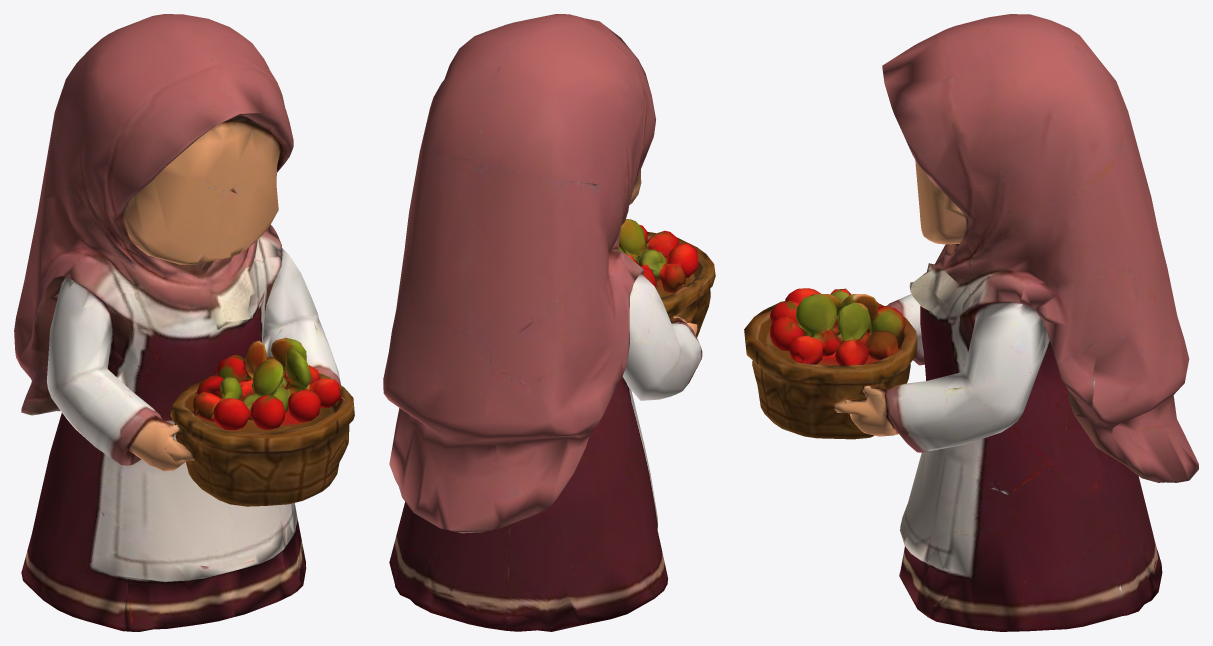
The model's file is mother-helper.glb.
3 renders of one model, left to right at view 1: azimuth 30°, elevation 25°; view 2: azimuth 150°, elevation 25°; view 3: azimuth 270°, elevation 25°, orthographic. The views are drawn at different scales.
Bounding box in the file's own units: 0.904 × 1.9 × 1.38.
1 material, 1 textured.
